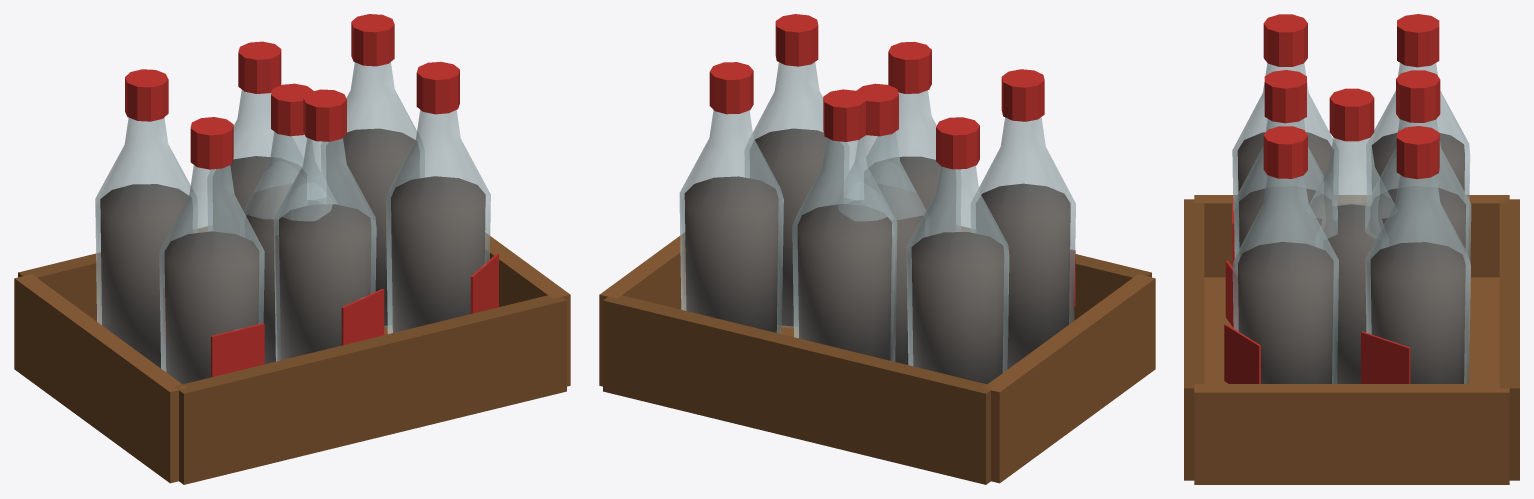
Rendered from Proc_SoySauce.fbx.
The picture shows the model from 3 angles, left to right: view 1: azimuth 30°, elevation 25°; view 2: azimuth 150°, elevation 25°; view 3: azimuth 270°, elevation 25°; orthographic projection.
Parts seen in each view (by area): view 1: Proc_SoySauce__Stack, Proc_SoySauce; view 2: Proc_SoySauce__Stack, Proc_SoySauce; view 3: Proc_SoySauce__Stack, Proc_SoySauce.
Boxes of the visible parts, left/top/right/bottom form: Proc_SoySauce__Stack: left=14, top=14, right=570, bottom=484; Proc_SoySauce: left=240, top=83, right=336, bottom=364; Proc_SoySauce__Stack: left=599, top=14, right=1155, bottom=484; Proc_SoySauce: left=832, top=83, right=929, bottom=365; Proc_SoySauce__Stack: left=1184, top=14, right=1519, bottom=484; Proc_SoySauce: left=1309, top=88, right=1394, bottom=383.
Bounding box in the file's own units: 0.184 × 0.133 × 0.132.
